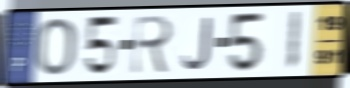5: (225, 10, 272, 74), (84, 14, 119, 77)
I: (284, 9, 303, 73)
J: (181, 15, 213, 71)
O: (34, 17, 78, 78)
R: (128, 13, 176, 76)
